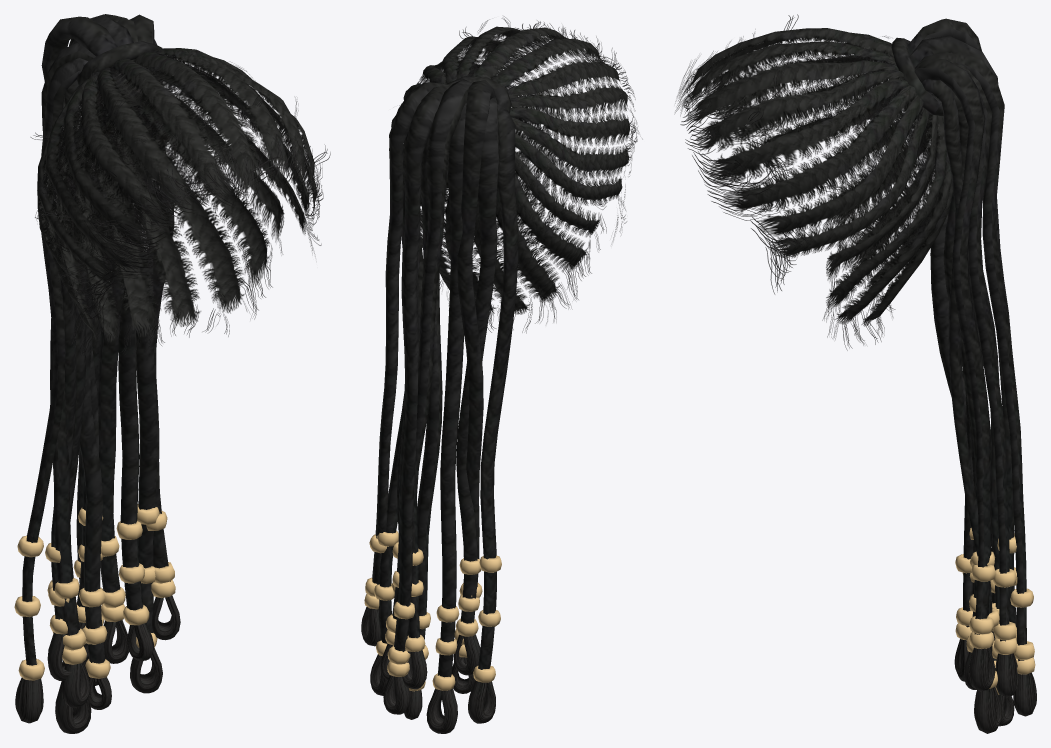
Rendered from braids-transformed.glb.
The picture shows the model from 3 angles, left to right: view 1: azimuth 30°, elevation 25°; view 2: azimuth 150°, elevation 25°; view 3: azimuth 270°, elevation 25°; orthographic projection. The views are drawn at different scales.
Parts seen in each view (by area): view 1: Object_3, Object_2; view 2: Object_3, Object_2; view 3: Object_3, Object_2.
Part boxes in pixels (x1=…): Object_3: x1=15, y1=14, x2=330, y2=733; Object_2: x1=14, y1=504, x2=175, y2=680; Object_3: x1=361, y1=16, x2=642, y2=733; Object_2: x1=364, y1=530, x2=501, y2=691; Object_3: x1=675, y1=14, x2=1036, y2=733; Object_2: x1=955, y1=528, x2=1035, y2=694.
Size of the model in its own units: 0.7892 by 2.09 by 0.9885.
Materials: 2 (1 with a texture image).
